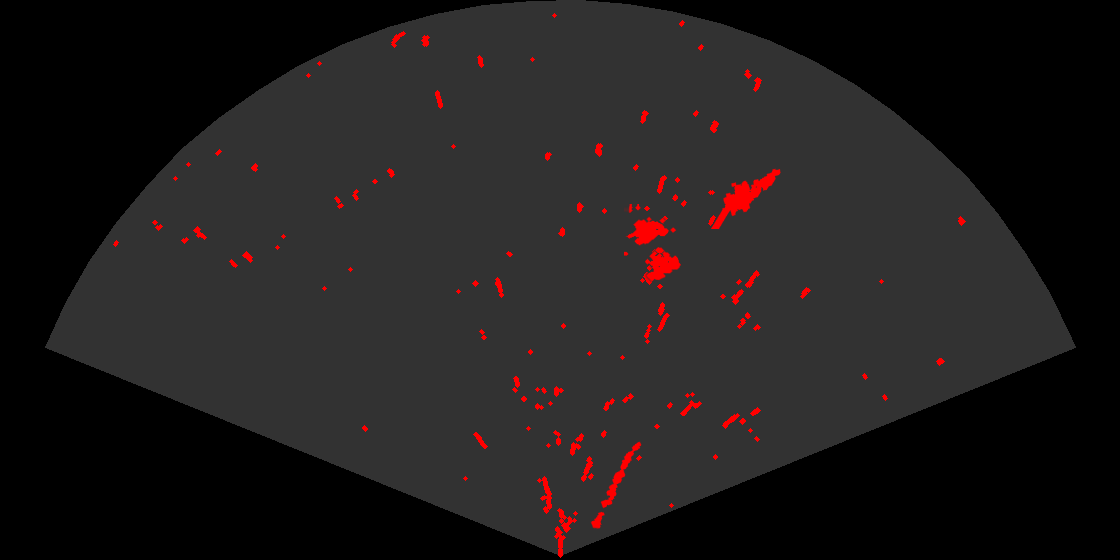cage: (624, 204, 682, 283)
chain: (589, 440, 643, 531)
frogman: (711, 167, 782, 229)
